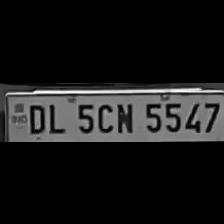4: (182, 98, 202, 132)
5: (72, 99, 96, 133), (140, 98, 162, 132), (162, 98, 182, 132)
7: (200, 98, 220, 132)
C: (94, 99, 114, 133)
D: (24, 101, 46, 133)
L: (46, 99, 68, 133)
N: (114, 99, 136, 133)
